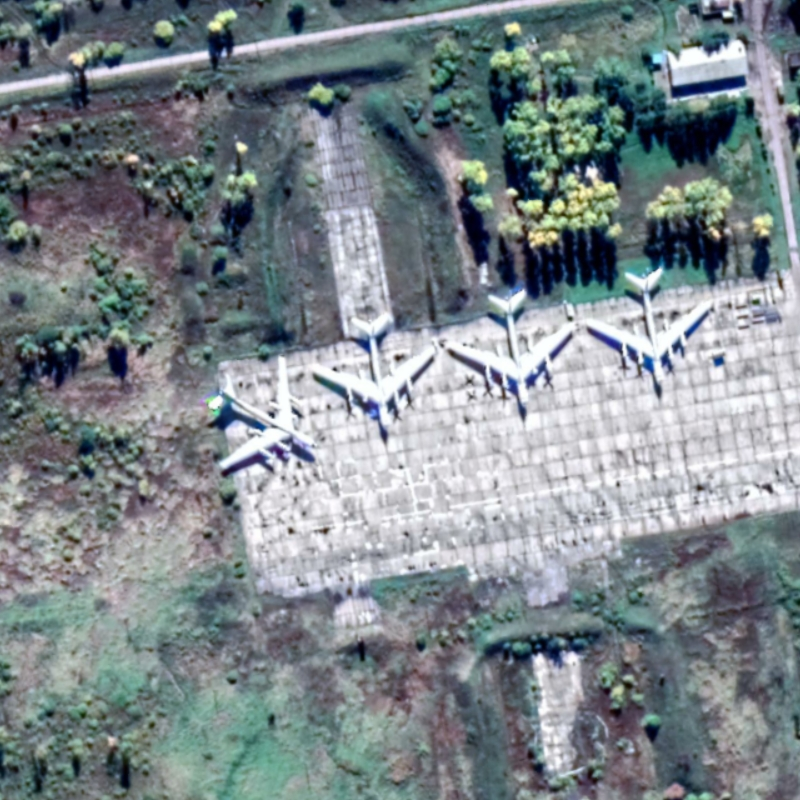A17: (441, 287, 573, 412), (582, 266, 714, 390), (306, 312, 437, 433), (206, 353, 321, 473)
